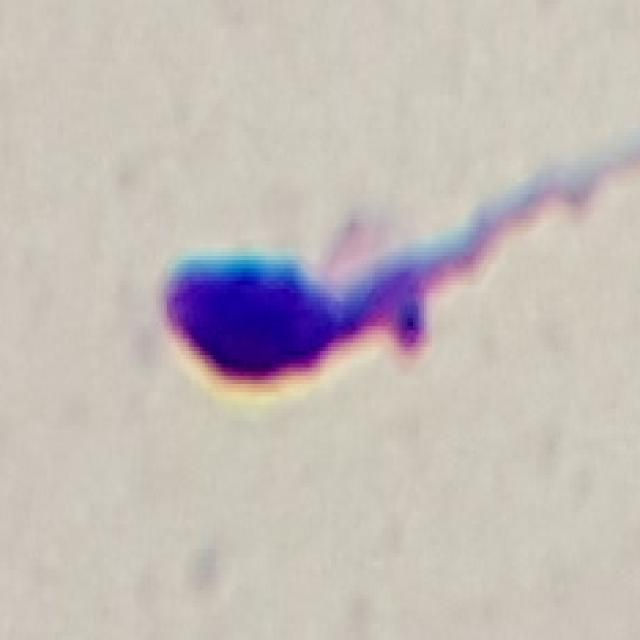abnormal sperm: (159, 186, 565, 399)
